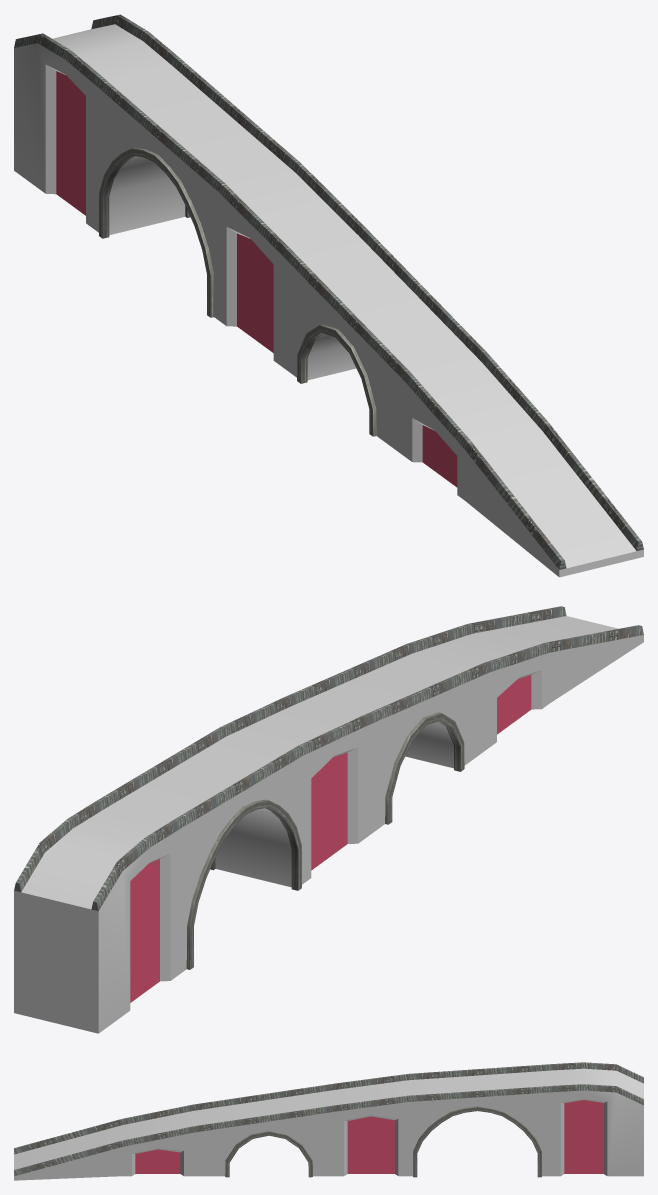
The model's file is BridgeB.fbx.
3 renders of one model, top to bottom at view 1: azimuth 30°, elevation 25°; view 2: azimuth 150°, elevation 25°; view 3: azimuth 270°, elevation 25°, orthographic. The views are drawn at different scales.
Visible parts, largest first — view 1: Cube.016; view 2: Cube.016; view 3: Cube.016.
Boxes of the visible parts, bbox=[...] form: Cube.016: bbox=[14, 14, 643, 577]; Cube.016: bbox=[14, 606, 643, 1033]; Cube.016: bbox=[14, 1062, 643, 1180].
Size of the model in its own units: 2157 by 3715 by 22320.
